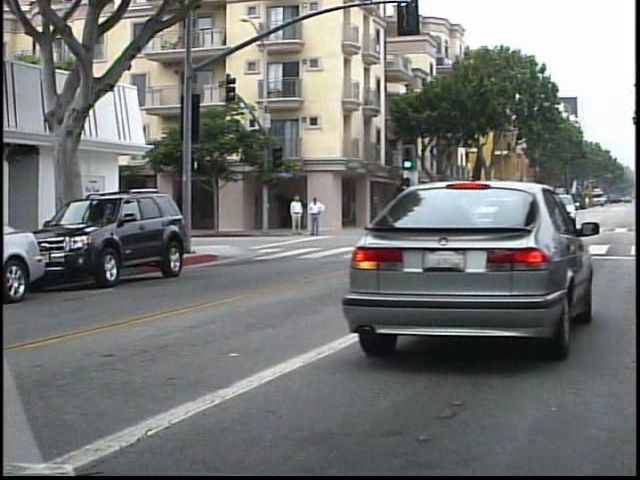person: (302, 193, 322, 240), (285, 192, 303, 237)
